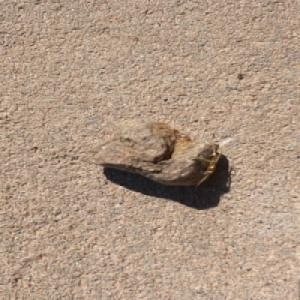Rock: (75, 115, 221, 186)
